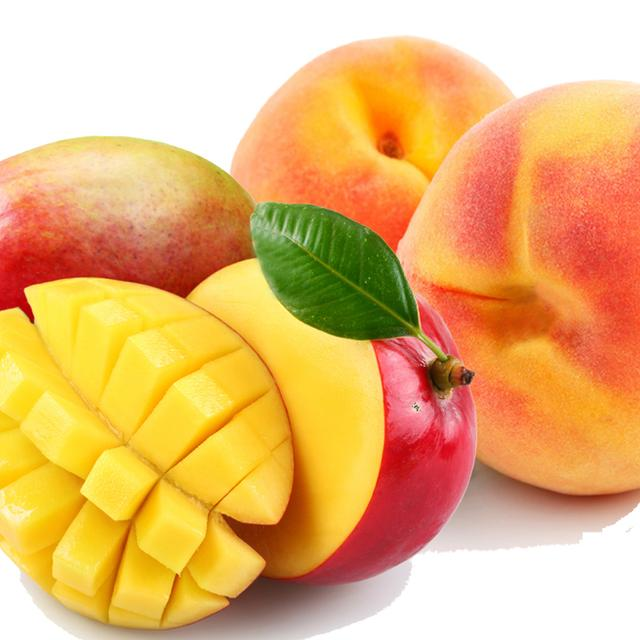mango: (195, 201, 489, 586), (0, 270, 301, 637), (0, 125, 260, 325)
